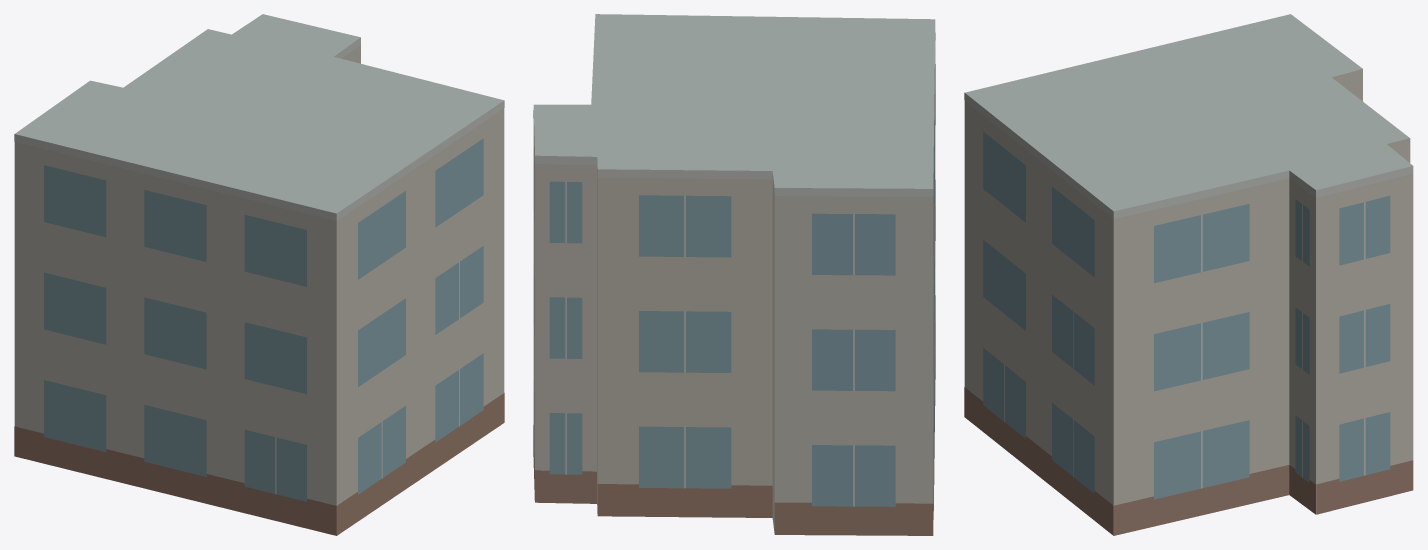
File: survey-upis-32470356.glb
3 views of the same model, side by side, from view 1: azimuth 30°, elevation 25°; view 2: azimuth 150°, elevation 25°; view 3: azimuth 270°, elevation 25° (orthographic). The views are drawn at different scales.
Parts seen in each view (by area): view 1: survey-upis-32470356.tmp; view 2: survey-upis-32470356.tmp; view 3: survey-upis-32470356.tmp.
Part boxes in pixels (x1=…): survey-upis-32470356.tmp: x1=14, y1=14, x2=504, y2=535; survey-upis-32470356.tmp: x1=533, y1=14, x2=935, y2=535; survey-upis-32470356.tmp: x1=964, y1=14, x2=1413, y2=535.
Bounding box in the file's own units: 13.45 × 10.3 × 12.92.
